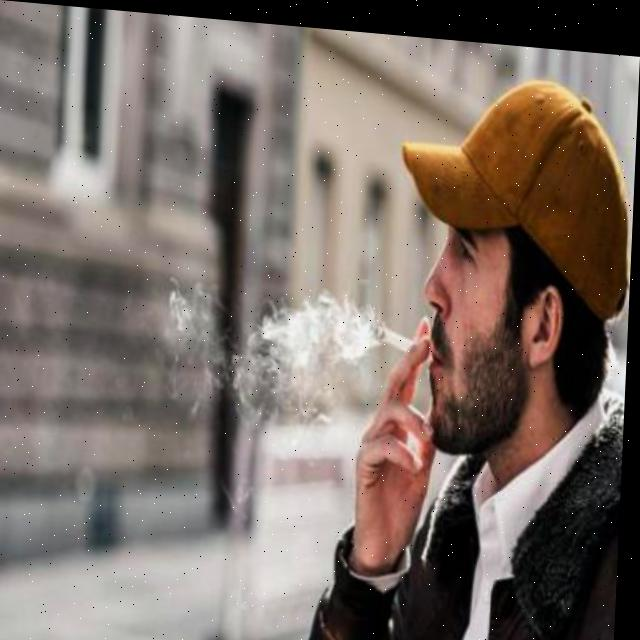cigarette: (377, 319, 438, 358)
